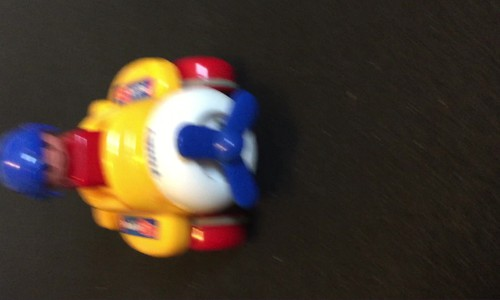toy: (4, 51, 263, 256)
